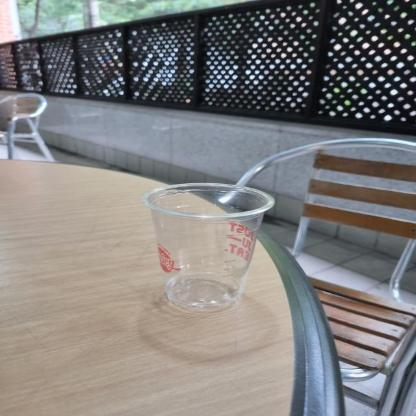Plastic Cup: (138, 176, 278, 316)
